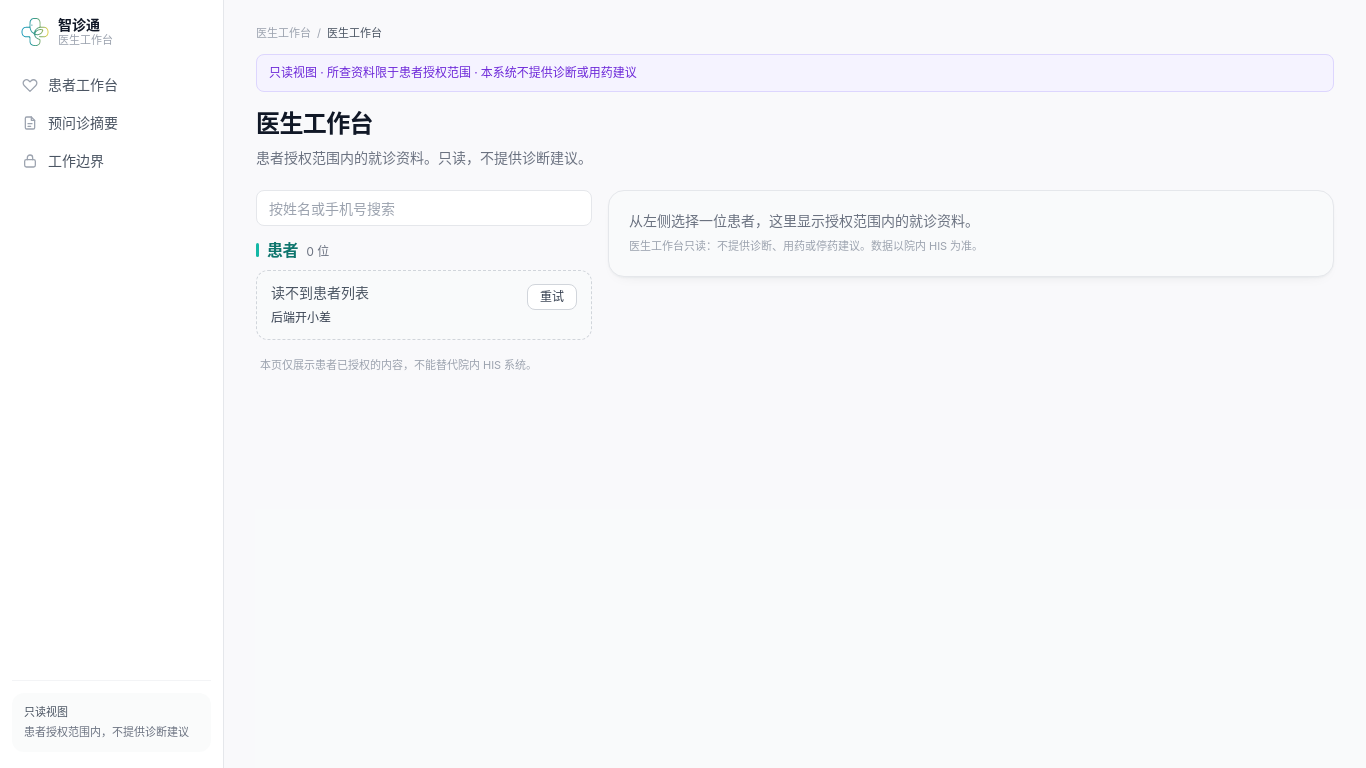
it: 医生工作台：取数时序 › 列表读不到时给重试入口，重试后能恢复
Expected: the text "读不到患者列表" is shown, x1=271 y1=284 x2=369 y2=301
Click the button "重试": (552, 297) x1=527 y1=284 x2=577 y2=310
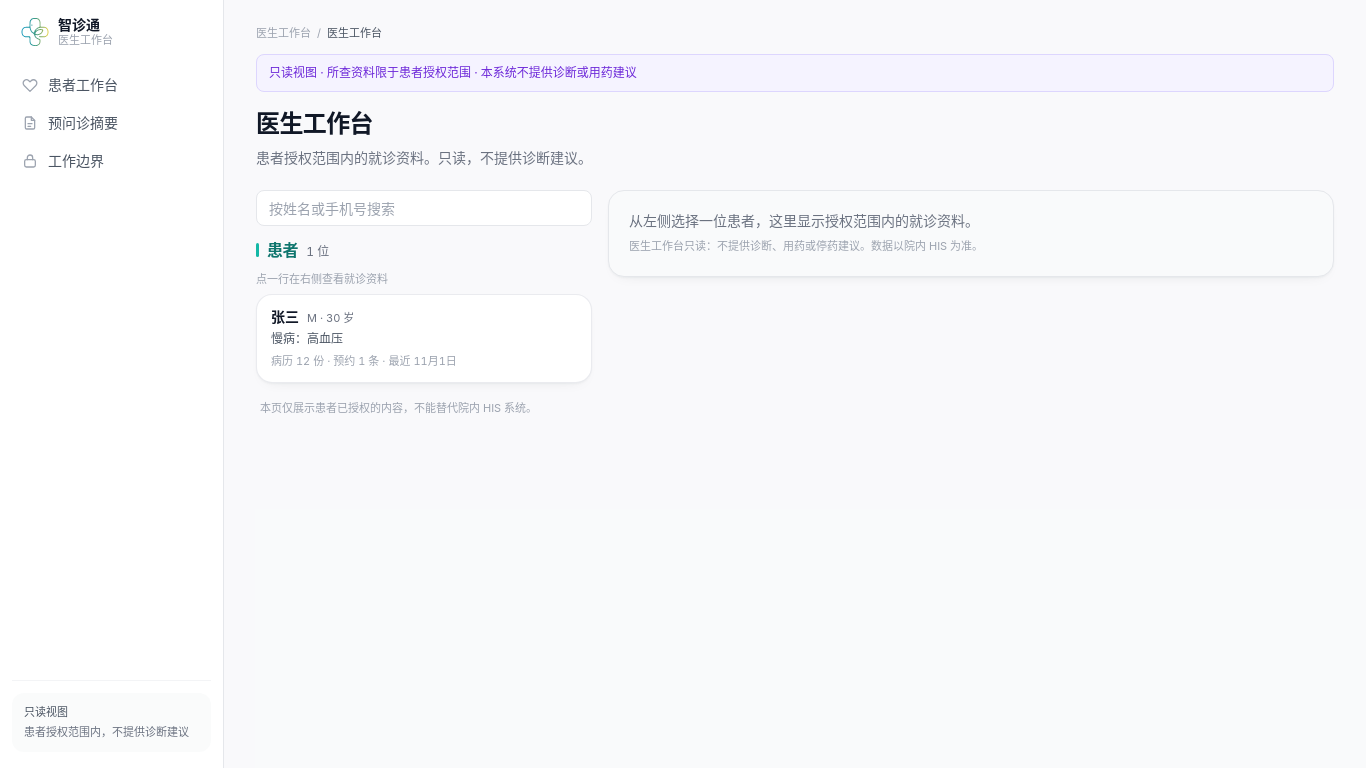
Expected: the text "张三" is shown, x1=271 y1=307 x2=299 y2=327
